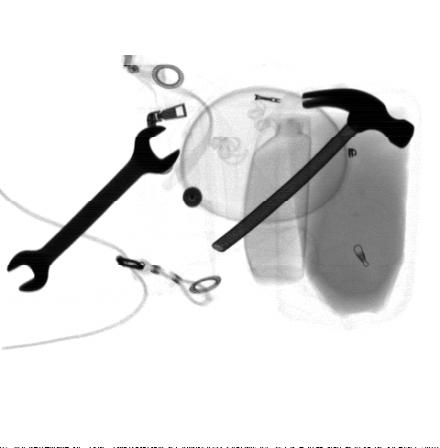Hammer: (211, 88, 418, 253)
Wrench: (6, 122, 182, 292)
